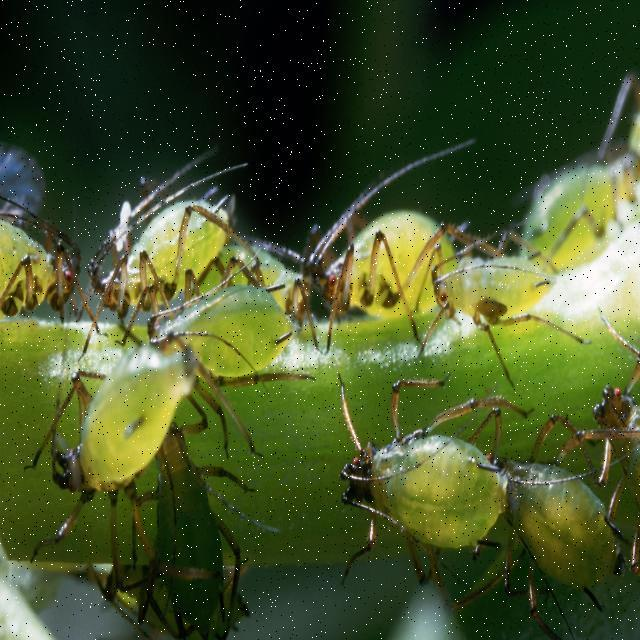Aphids: (34, 317, 227, 575), (325, 350, 510, 573), (73, 117, 242, 338), (472, 406, 629, 615), (392, 205, 585, 364), (137, 233, 306, 406), (269, 168, 444, 328)
